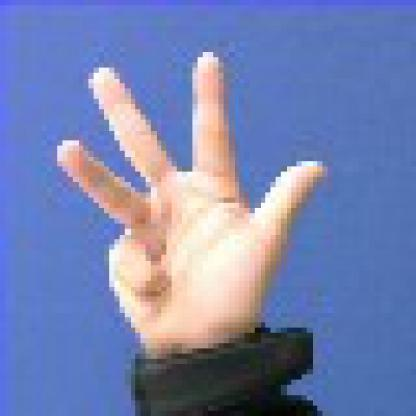nine: (19, 29, 363, 358)
